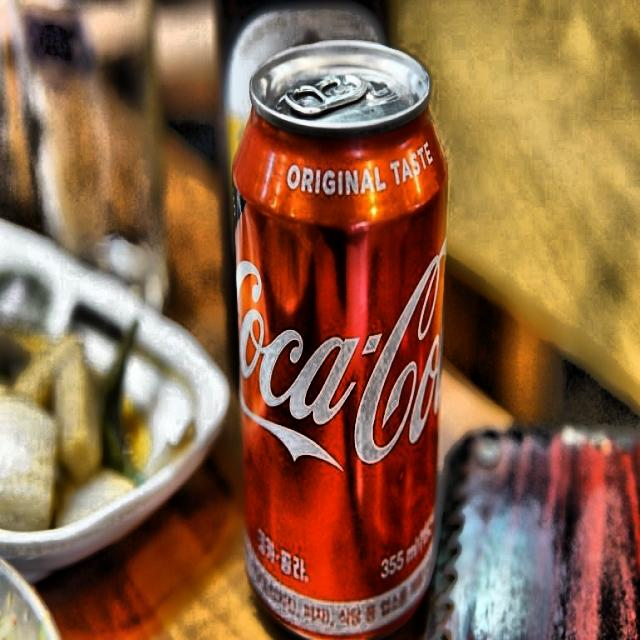cocacola: (225, 66, 450, 636)
